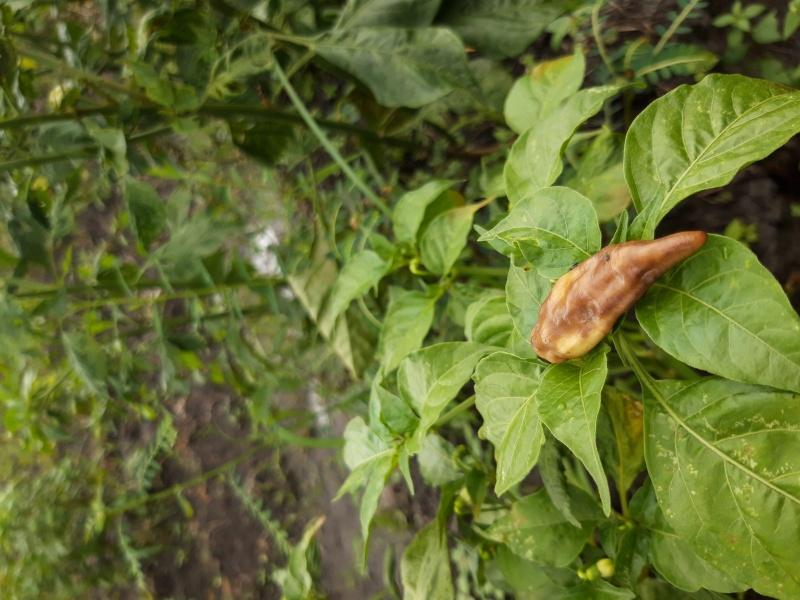lalat_buah: (527, 231, 705, 363)
